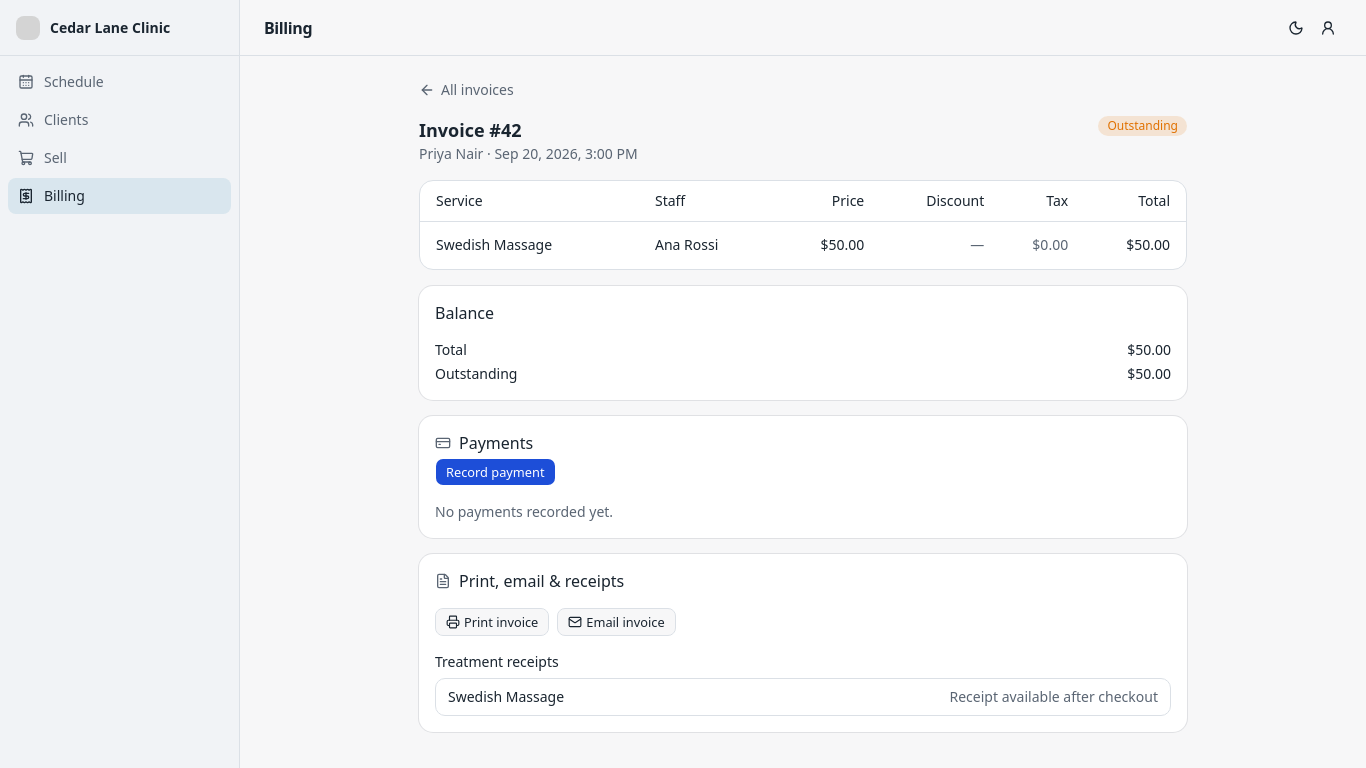
Scenario: recording a client payment pre-fills the outstanding balance and closes with Record another offered
Expected: the heading "Invoice #42" is shown, [419, 118, 522, 142]
Click the button "Record payment" at (495, 472), box [435, 458, 556, 486]
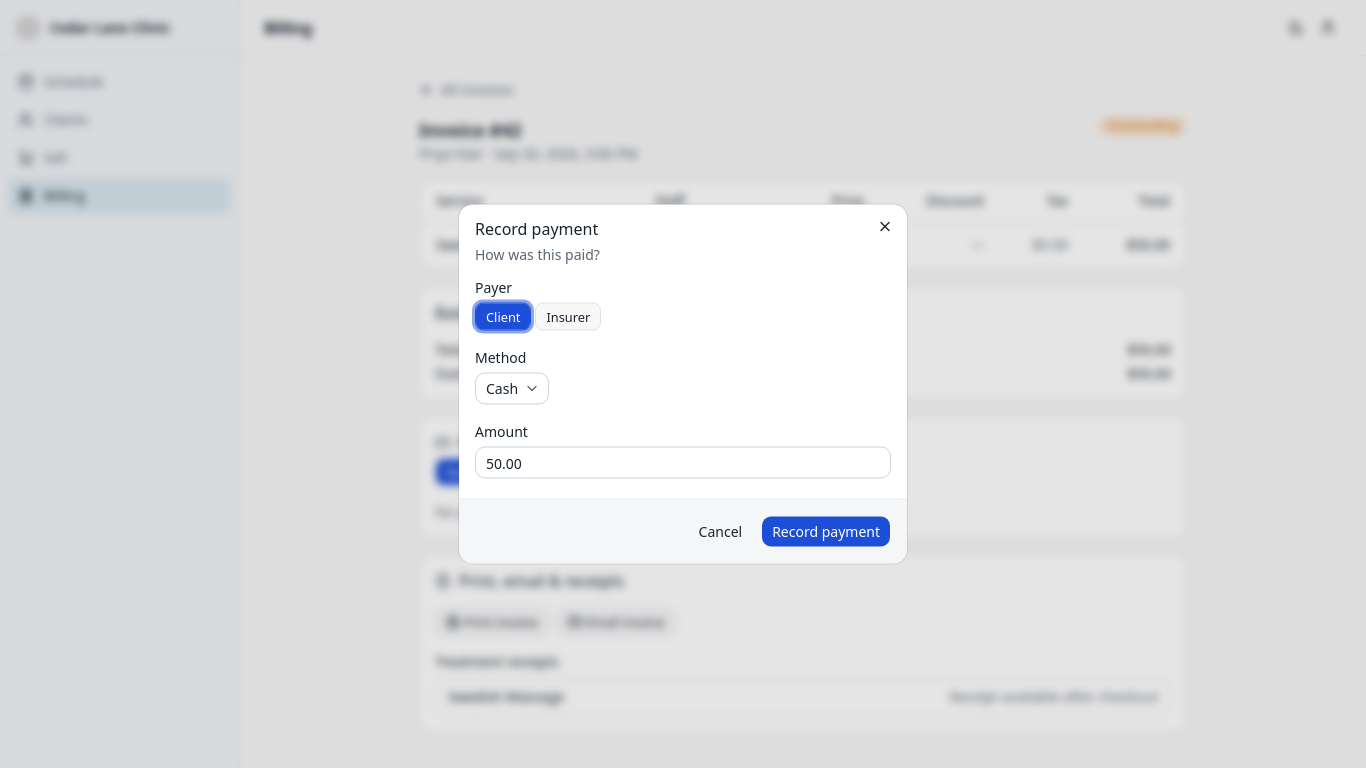
Result: the field labelled "Amount" holds "50.00"
Result: the button "Client" is shown at [475, 302, 531, 330]
// Half now, leaving a balance — Record another should be offered next.
Replace the text in the field labelled "Amount" with "20.00" at (683, 462), box [475, 446, 891, 478]
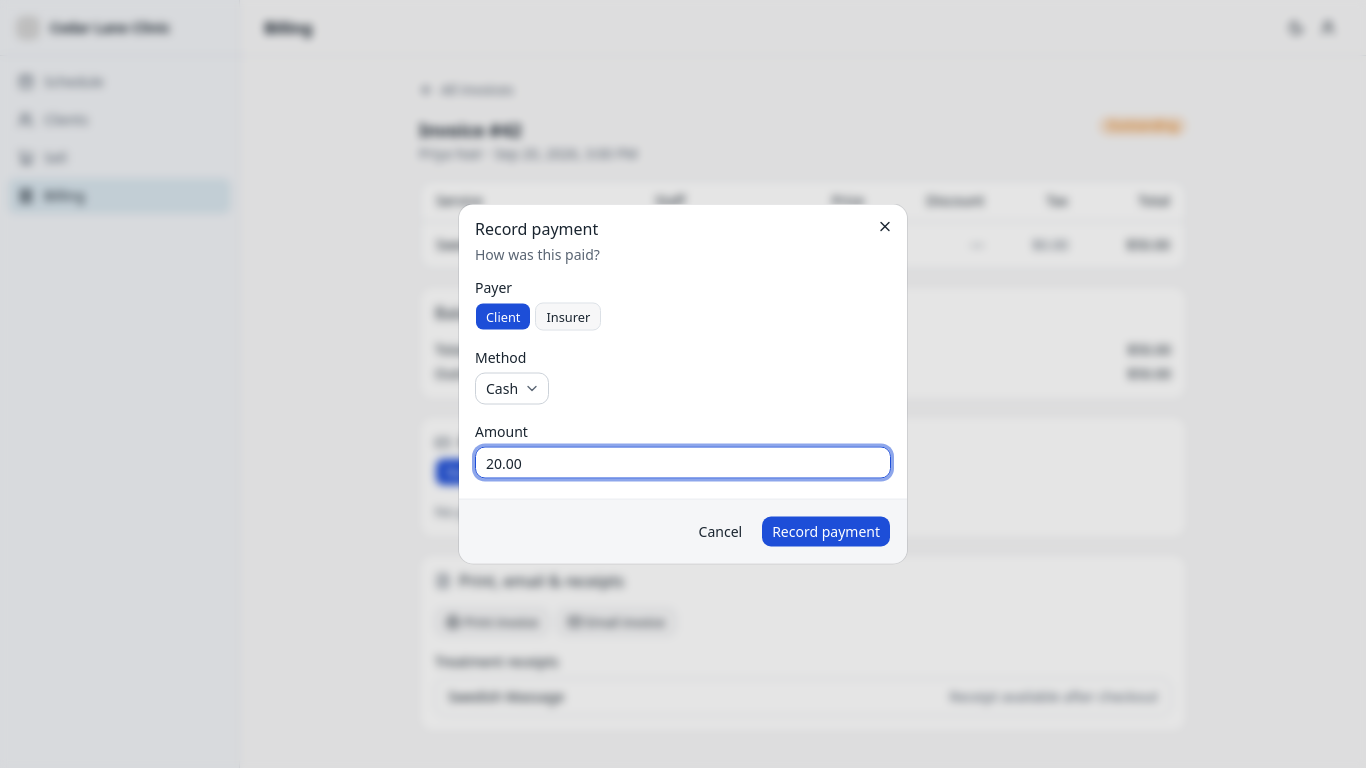
Click the button "Record payment" at (826, 532), box [761, 516, 891, 548]
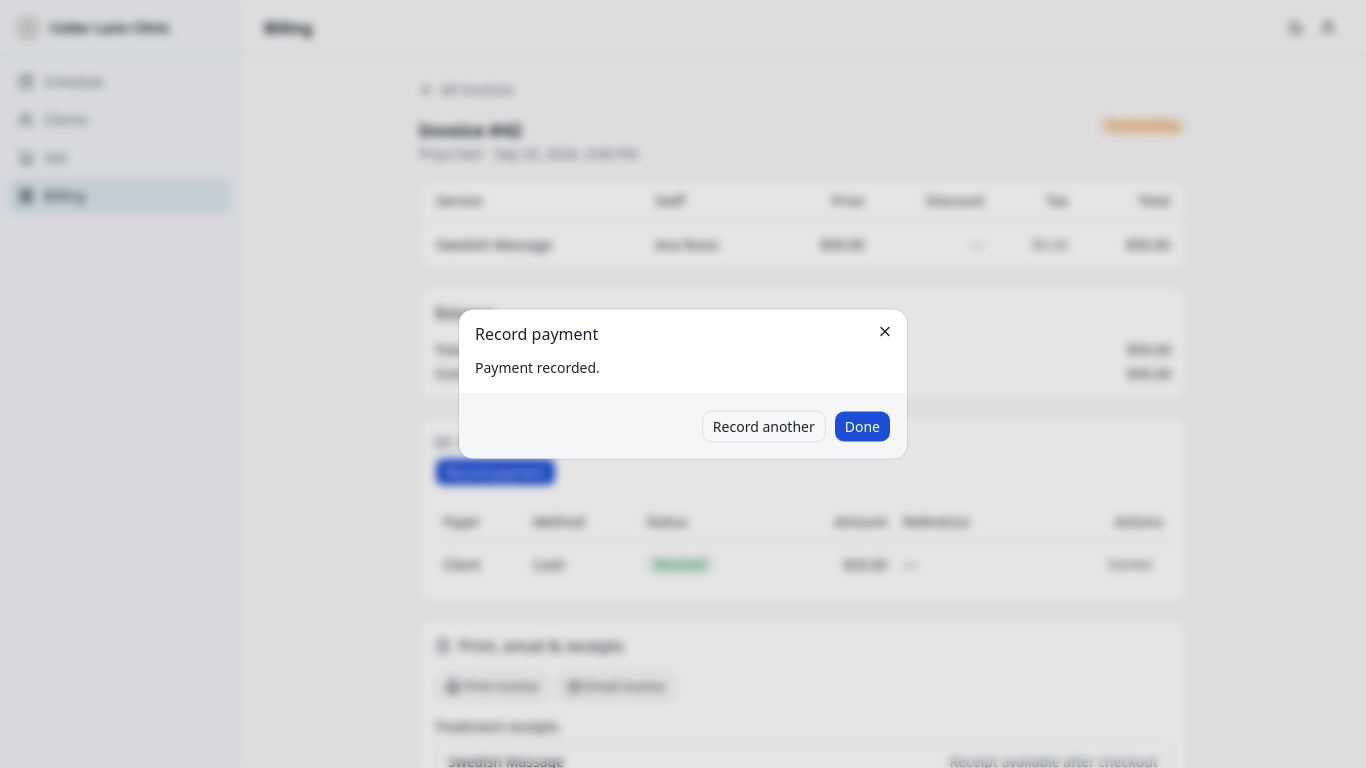
Result: the text "Payment recorded." is shown at [475, 358, 600, 376]
Result: the button "Record another" is shown at [702, 410, 826, 442]
